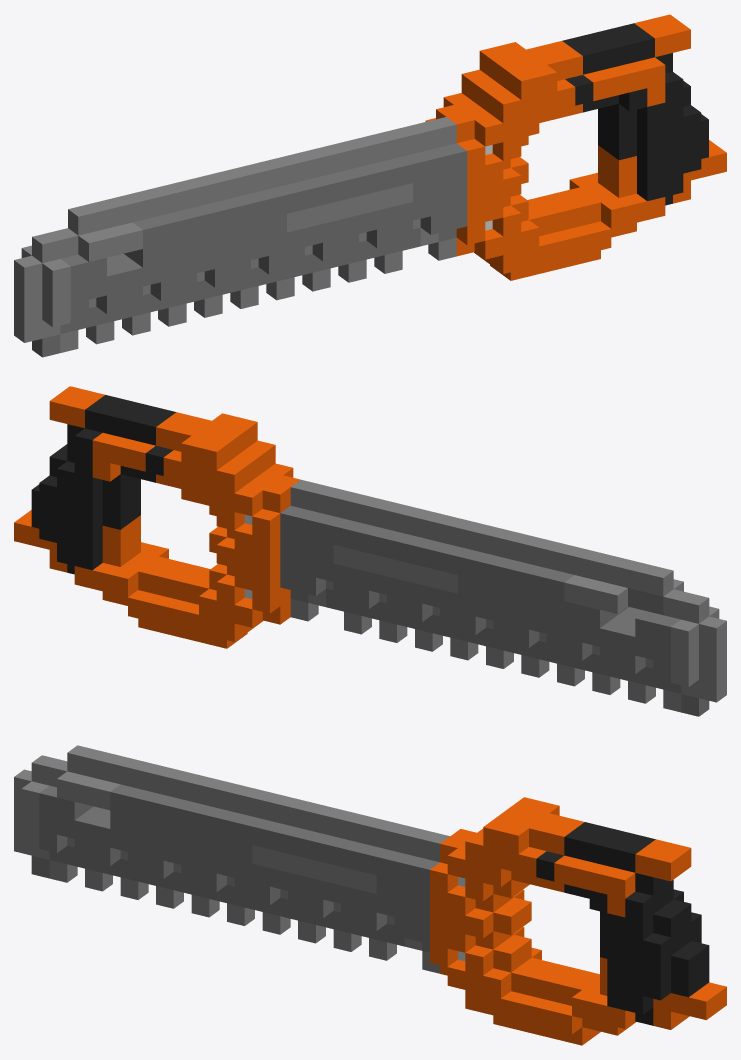
The model's file is tool_chainsaw.glb.
The picture shows the model from 3 angles, top to bottom: view 1: azimuth 30°, elevation 25°; view 2: azimuth 150°, elevation 25°; view 3: azimuth 330°, elevation 25°; orthographic projection.
Visible parts, largest first — view 1: tool_chainsaw; view 2: tool_chainsaw; view 3: tool_chainsaw.
Part boxes in pixels (x1,y1,x2,y2): tool_chainsaw: (14, 14, 726, 357); tool_chainsaw: (14, 386, 726, 716); tool_chainsaw: (14, 745, 726, 1045).
Bounding box in the file's own units: 3.9 × 1.1 × 0.4.
Materials: 1 (1 with a texture image).
